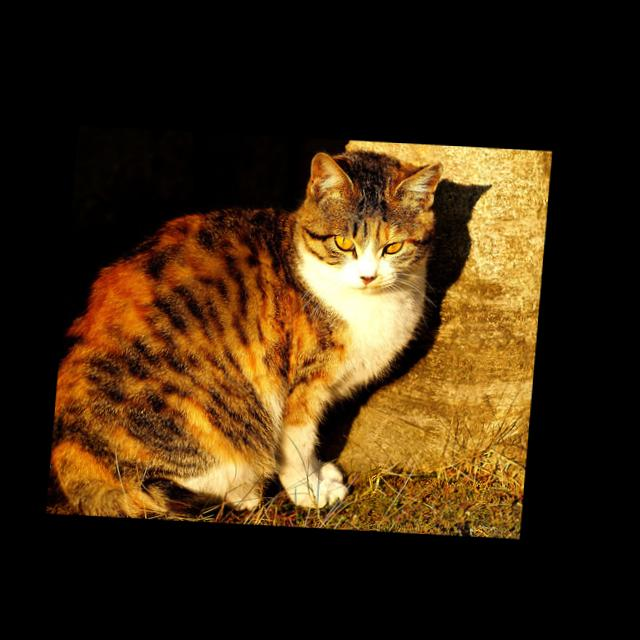animals: (306, 149, 442, 282)
